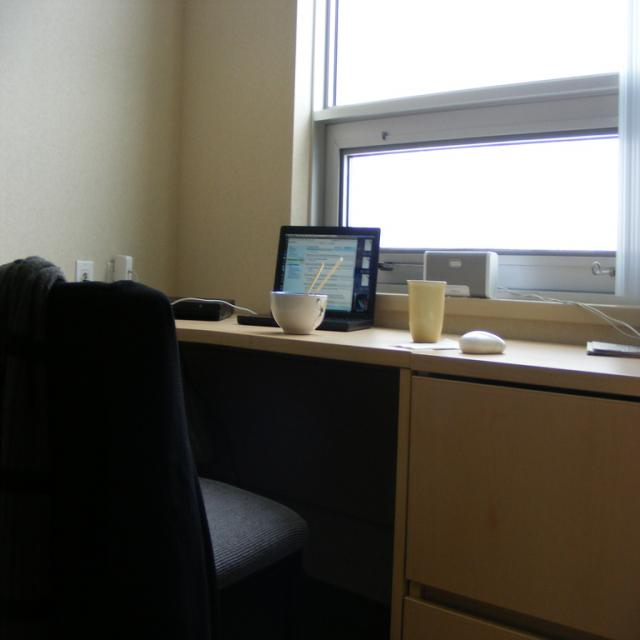chair: (2, 272, 312, 638)
desk: (179, 323, 640, 639)
laptop: (271, 225, 381, 332)
mouse: (458, 329, 507, 355)
tv: (270, 224, 380, 331)
